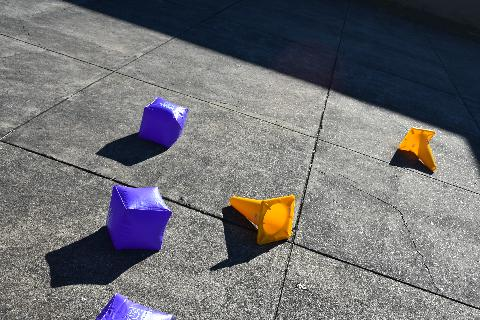cone: (230, 194, 296, 246), (398, 128, 436, 172)
cube: (106, 186, 172, 250), (138, 97, 188, 149), (94, 292, 172, 320)
